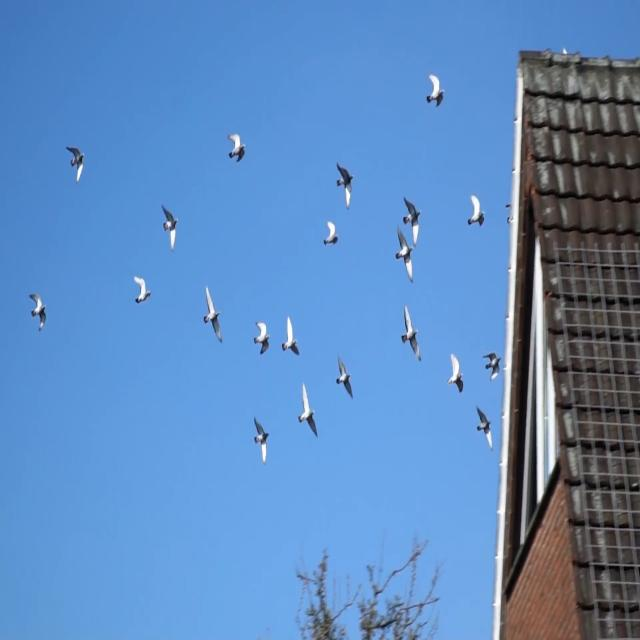bird: (400, 303, 423, 365), (395, 224, 415, 286), (202, 285, 223, 344), (401, 194, 423, 249), (296, 382, 318, 437), (159, 200, 179, 255), (334, 160, 355, 212), (252, 414, 271, 467), (474, 403, 494, 453), (64, 145, 87, 186), (334, 354, 354, 401), (446, 350, 466, 395), (28, 291, 48, 335), (280, 316, 300, 358), (424, 70, 444, 110), (225, 130, 247, 164), (467, 190, 485, 230), (482, 348, 502, 384), (133, 272, 152, 307), (254, 317, 270, 356), (324, 215, 338, 252)
